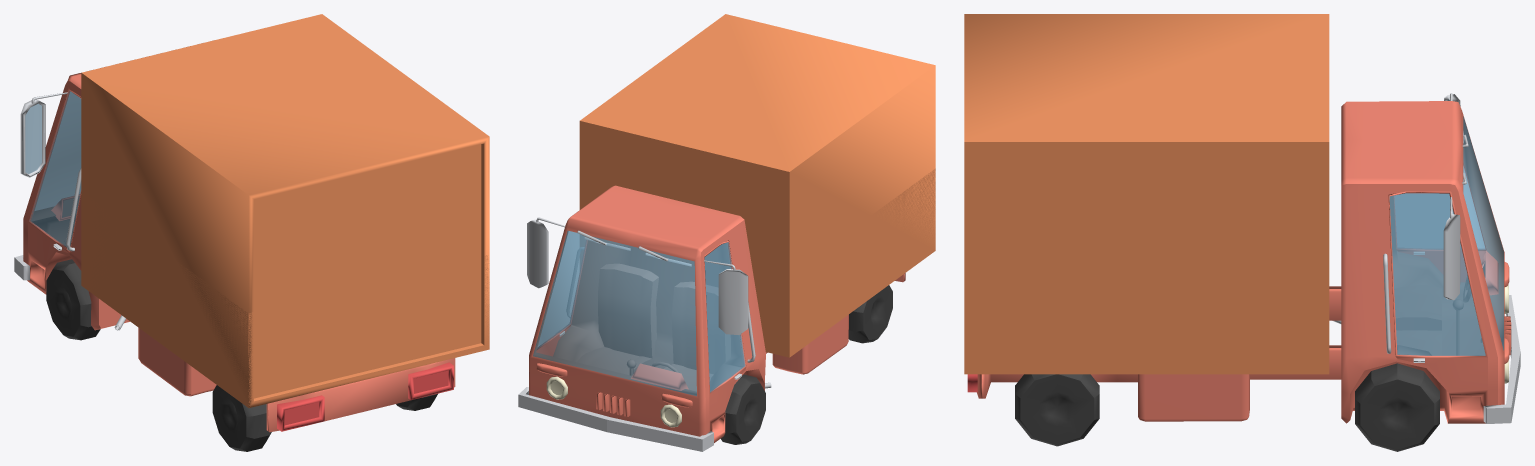
File: KFB_CVP1_truck.glb
3 renders of one model, left to right at view 1: azimuth 30°, elevation 25°; view 2: azimuth 150°, elevation 25°; view 3: azimuth 270°, elevation 25°, orthographic. The views are drawn at different scales.
Visible parts, largest first — view 1: Case, CaseDoorR, CaseDoorL, CaseOpen, Glass, FrameMoving, Cabin, WheelFL, WheelRL, TankL, MirrorCase, LightRearCase (+4 smaller); view 2: Case, WindowFront.1, Cabin, CaseOpen, Interior, SeatR, SeatL, BumperFront, Glass, Glass.2, WheelFL, MirrorCase (+7 smaller); view 3: Case, CaseOpen, Cabin, Glass.2, Interior, WheelFR, TankR, WheelRR, WindowFront.1, Glass, DoorR, SeatL (+6 smaller).
Boxes of the visible parts, left/top/right/bottom form: Case: left=81, top=14, right=489, bottom=407; CaseDoorR: left=366, top=144, right=481, bottom=370; CaseDoorL: left=254, top=172, right=366, bottom=398; CaseOpen: left=81, top=191, right=489, bottom=406; Glass: left=29, top=90, right=81, bottom=247; FrameMoving: left=266, top=358, right=455, bottom=432; Cabin: left=23, top=73, right=129, bottom=330; WheelFL: left=46, top=259, right=100, bottom=340; WheelRL: left=212, top=385, right=271, bottom=451; TankL: left=138, top=327, right=216, bottom=396; MirrorCase: left=20, top=99, right=45, bottom=177; LightRearCase: left=277, top=362, right=453, bottom=431; Case: left=579, top=14, right=935, bottom=357; WindowFront.1: left=533, top=230, right=696, bottom=395; Cabin: left=529, top=185, right=765, bottom=442; CaseOpen: left=752, top=168, right=935, bottom=356; Interior: left=533, top=230, right=743, bottom=395; SeatR: left=577, top=263, right=658, bottom=374; SeatL: left=664, top=281, right=730, bottom=391; BumperFront: left=518, top=387, right=713, bottom=451; Glass: left=704, top=242, right=745, bottom=392; Glass.2: left=537, top=231, right=586, bottom=348; WheelFL: left=720, top=374, right=765, bottom=444; MirrorCase: left=718, top=269, right=748, bottom=334; Case: left=964, top=14, right=1329, bottom=374; CaseOpen: left=964, top=271, right=1329, bottom=374; Cabin: left=1341, top=101, right=1504, bottom=423; Glass.2: left=1389, top=193, right=1485, bottom=355; Interior: left=1390, top=116, right=1503, bottom=355; WheelFR: left=1355, top=363, right=1439, bottom=451; TankR: left=1138, top=374, right=1249, bottom=421; WheelRR: left=1015, top=374, right=1099, bottom=446; WindowFront.1: left=1463, top=116, right=1503, bottom=350; Glass: left=1395, top=166, right=1485, bottom=249; DoorR: left=1388, top=191, right=1487, bottom=389; SeatL: left=1394, top=285, right=1441, bottom=330.
Size of the model in its own units: 2.5 by 2.77 by 4.36.
